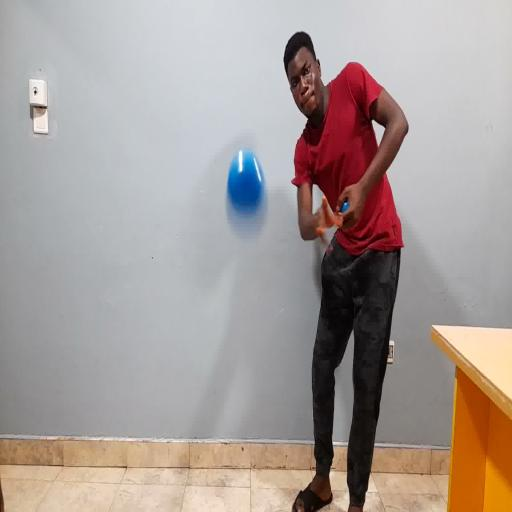plastic-ball: (222, 142, 270, 242)
